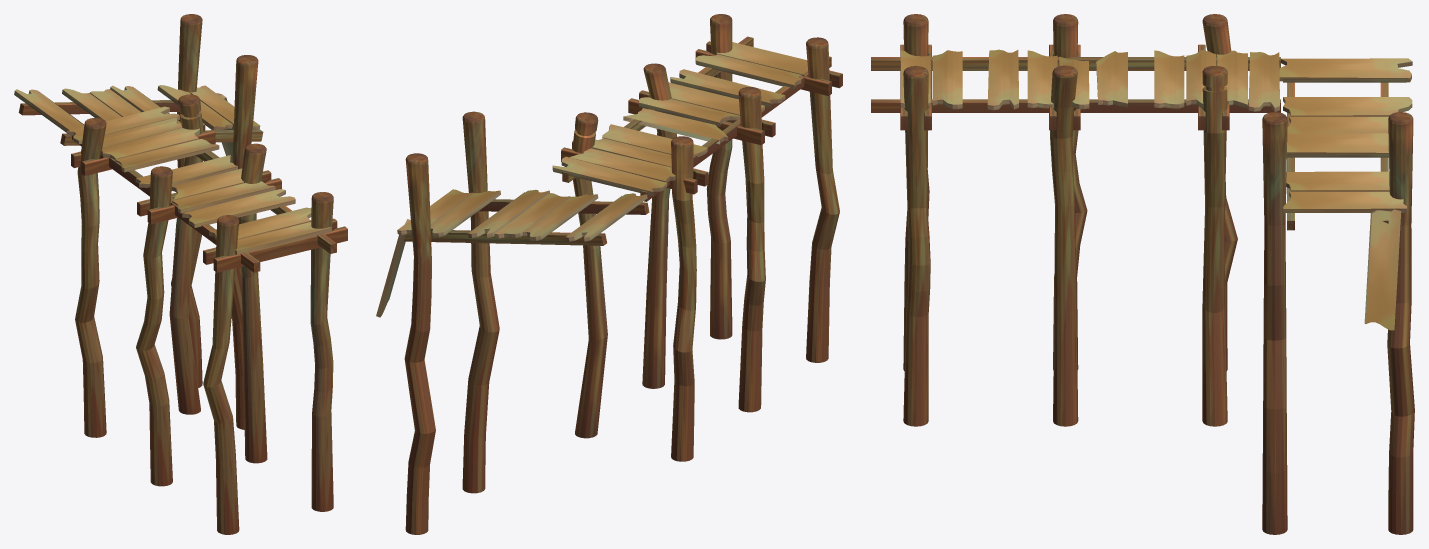
Rendered from iskele.fbx.
3 views of the same model, side by side, from view 1: azimuth 30°, elevation 25°; view 2: azimuth 150°, elevation 25°; view 3: azimuth 270°, elevation 25° (orthographic). The views are drawn at different scales.
Parts seen in each view (by area): view 1: Cylinder.003, Cube.030, Cylinder.004, Cube.028, Cube.026, Cube.027, Cube.029; view 2: Cylinder.003, Cylinder.004, Cube.030, Cube.028, Cube.026, Cube.029, Cube.027, a; view 3: Cylinder.003, Cylinder.004, Cube.028, Cube.030, Cube.027, a, Cube.026, Cube.029.
Boxes of the visible parts, box(x1,y1,x2,y2) form: Cylinder.003: box(75, 94, 333, 534); Cube.030: box(66, 106, 331, 254); Cylinder.004: box(171, 14, 258, 429); Cube.028: box(14, 85, 260, 136); Cube.026: box(71, 122, 347, 272); Cube.027: box(72, 135, 336, 272); Cube.029: box(18, 100, 263, 145); Cylinder.003: box(572, 14, 839, 461); Cylinder.004: box(404, 111, 499, 534); Cube.030: box(552, 42, 808, 196); Cube.028: box(397, 189, 647, 241); Cube.026: box(561, 41, 842, 194); Cube.029: box(404, 199, 649, 245); Cube.027: box(562, 36, 831, 201); a: box(376, 219, 410, 317); Cylinder.003: box(903, 14, 1237, 426); Cylinder.004: box(1262, 112, 1414, 534); Cube.028: box(1279, 58, 1412, 212); Cube.030: box(900, 49, 1279, 111); Cube.027: box(871, 57, 1280, 112); a: box(1364, 208, 1401, 330); Cube.026: box(900, 44, 1229, 130); Cube.029: box(1287, 82, 1388, 230).
Bounding box in the file's own units: 377 × 535 × 637.
2 materials, 2 textured.
